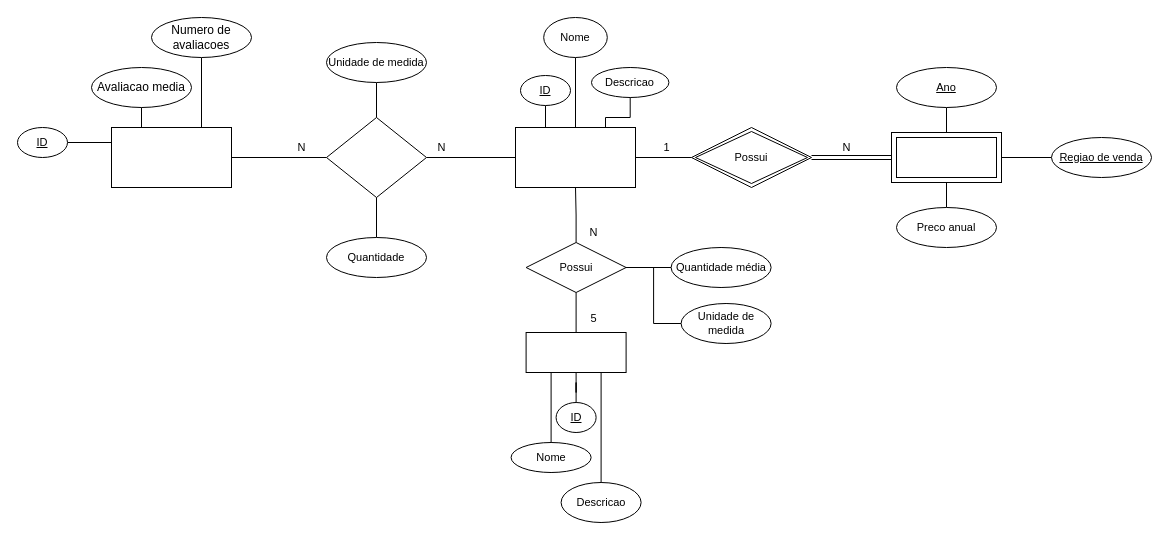
This 1169x540 diagram has some shape labels left out. Each missing label, with the centre of its shape:
"Composta de" goes at (x=376, y=157).
"Ingrediente (FooDB)" goes at (x=575, y=157).
"Nutriente" goes at (x=575, y=352).
"Preco de producao (FAOSTAT)" goes at (x=946, y=157).
"Receita (Kaggle)" goes at (x=171, y=157).
